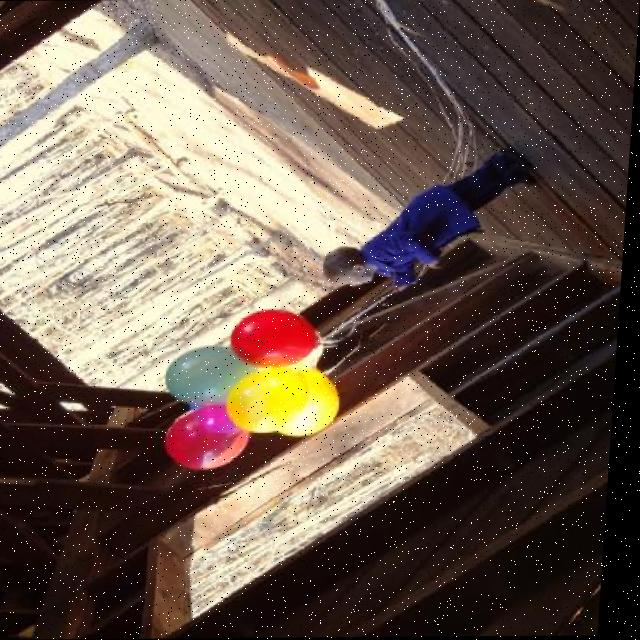balloon: (228, 301, 340, 373), (163, 401, 263, 479), (226, 360, 321, 440), (278, 360, 355, 441), (163, 344, 268, 402)
